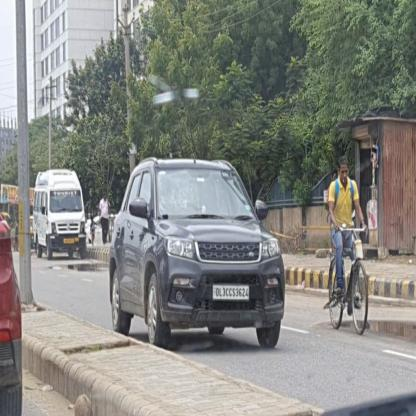bus: (33, 169, 88, 262)
car: (109, 156, 286, 355)
motorcycle: (328, 155, 371, 336)
